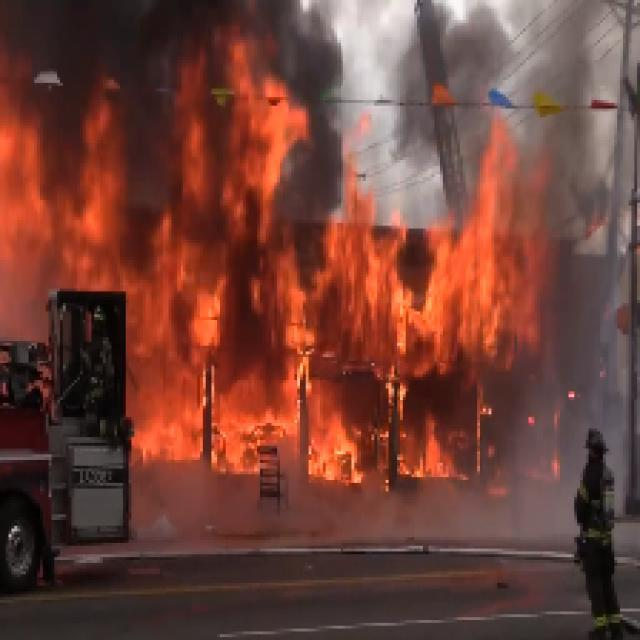Fire: (11, 161, 474, 433)
Smoke: (18, 12, 255, 92)
